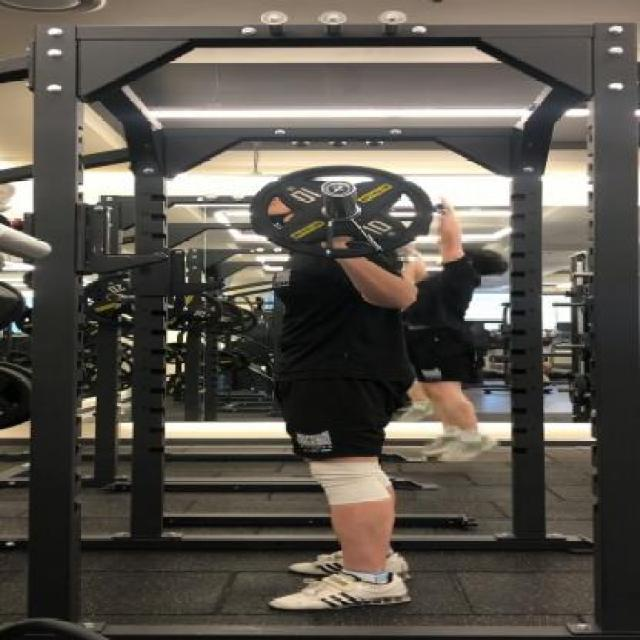barbell: (231, 153, 457, 264)
